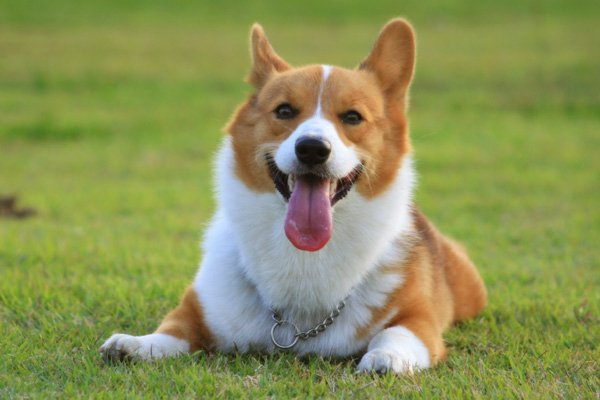dog: (109, 25, 489, 368)
